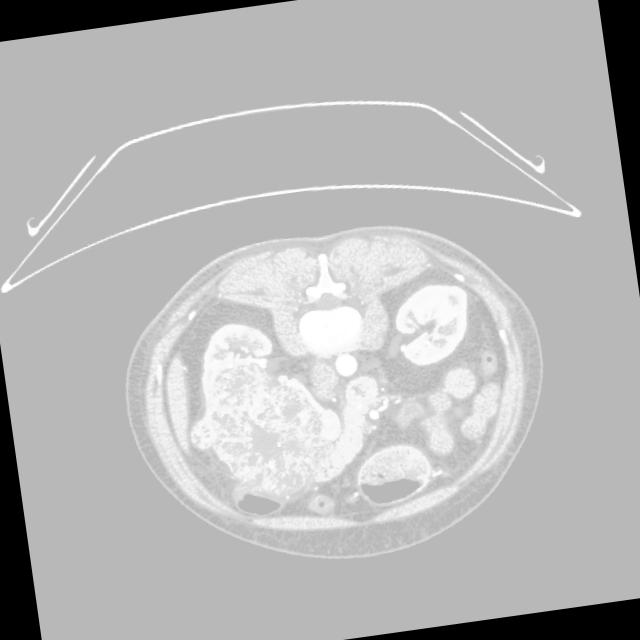TUMOR: (182, 302, 455, 501)
